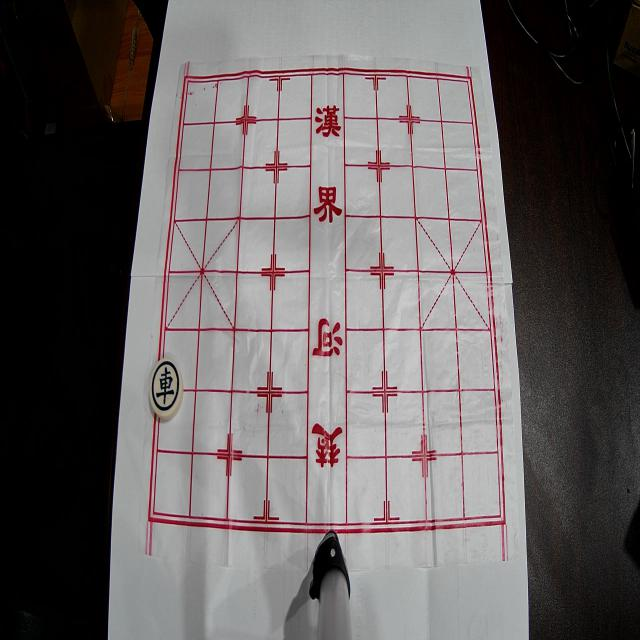black-chariot: (150, 358, 183, 420)
